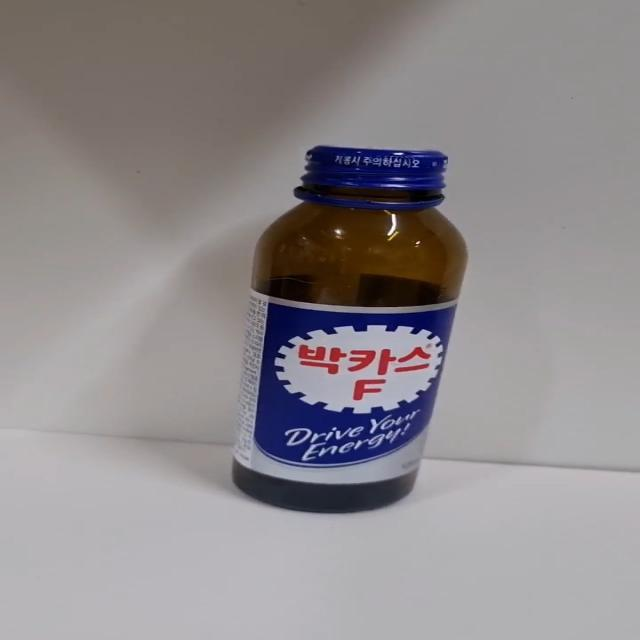Glass: (230, 146, 469, 516)
